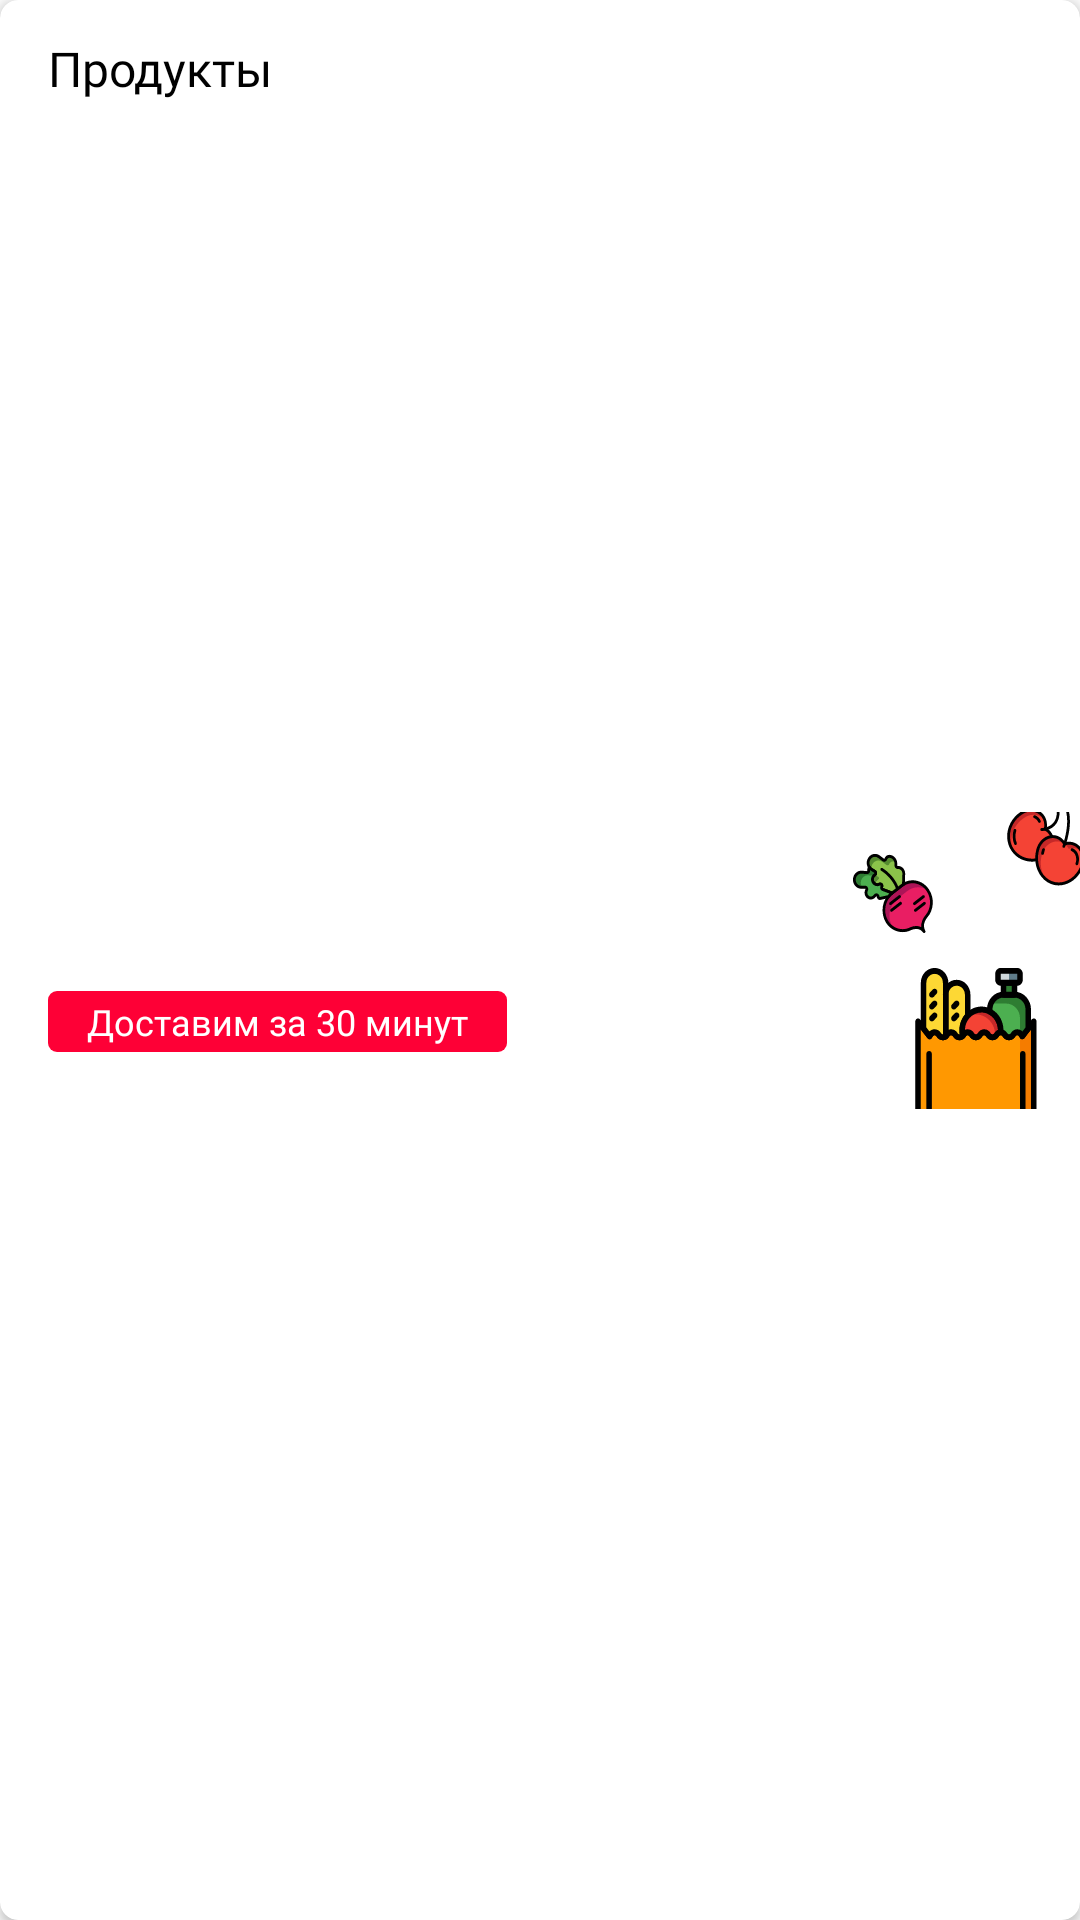

Icon bounding boxes for this 1080w x 1920h phone screenshot, format (x1, y1, x2, y2):
products: (853, 812, 1080, 1109)
